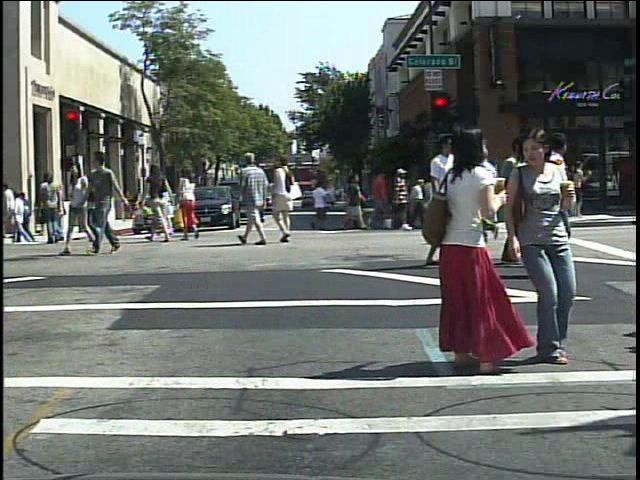person: (430, 123, 517, 378), (507, 123, 584, 368), (423, 130, 483, 274), (488, 132, 544, 271), (542, 129, 593, 280), (474, 138, 522, 248), (90, 147, 130, 258), (58, 160, 98, 258), (233, 148, 271, 246), (271, 151, 300, 247), (145, 164, 174, 245), (177, 165, 206, 241), (79, 168, 105, 246), (39, 172, 64, 247), (485, 164, 512, 233), (386, 165, 412, 234)
